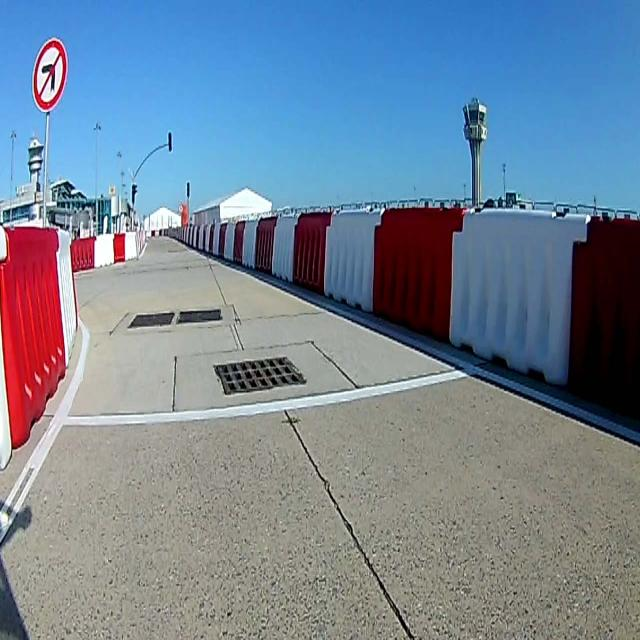soladonulmez: (34, 39, 67, 110)
